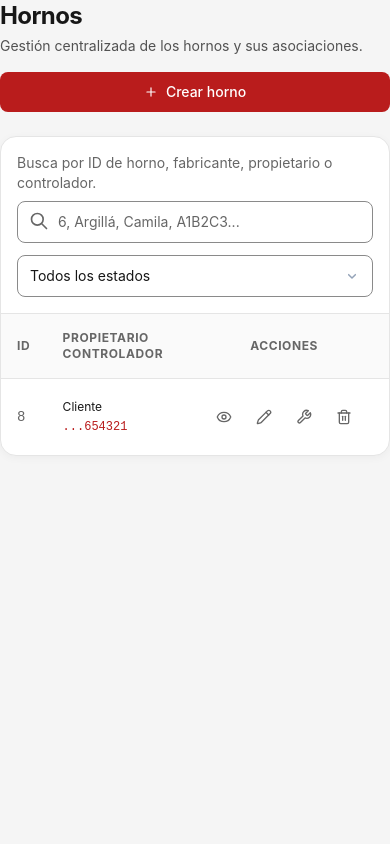
technician equipment management › shows controller information from the kiln list
Click the button titled "Ver información del controlador": x=95, y=427 [63,419,127,435]
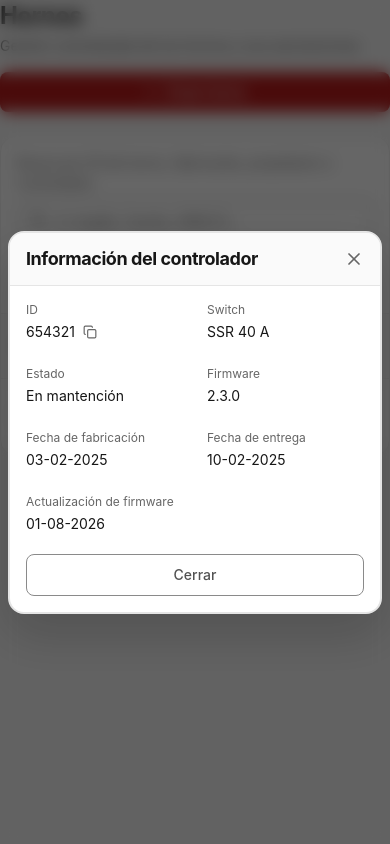
Check: the text "ID" is shown, box [26,302,38,316]
Check: the text "654321" is shown, box [26,322,75,342]
Check: the text "SSR 40 A" is shown, box [207,322,269,342]
